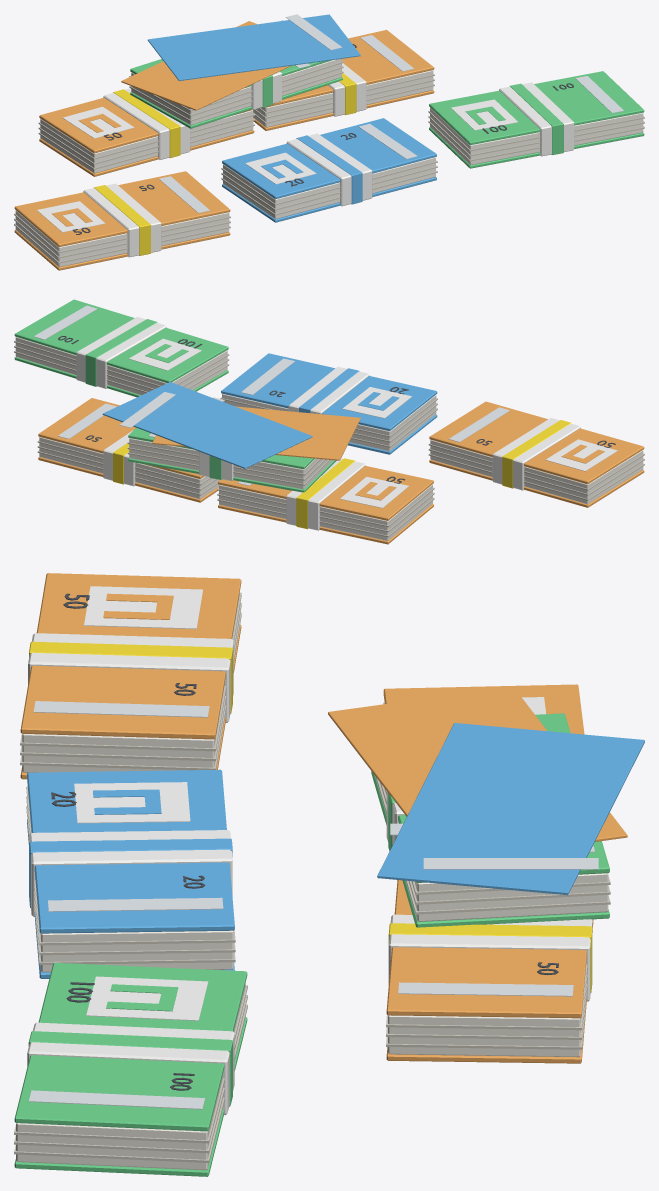
The model's file is Soldi_50_20_100.fbx.
3 views of the same model, one above another, from view 1: azimuth 30°, elevation 25°; view 2: azimuth 150°, elevation 25°; view 3: azimuth 270°, elevation 25° (orthographic). The views are drawn at different scales.
Parts seen in each view (by area): view 1: Banconota_Singola_2, Mazzetta_20_Euro_Cima, Mazzetta_50_Euro_Cima, Mazzetta_100_Euro_Cima, Banconota_Singola_1, Mazzetta_20_Euro_Fogli, Mazzetta_50_Euro_Fogli, Pila_Base_SX_Fogli, Mazzetta_100_Euro_Fogli, Pila_Base_DX_Cima, Pila_Base_DX_Fogli, Pila_Secondo_Fogli (+42 smaller); view 2: Banconota_Singola_2, Mazzetta_50_Euro_Cima, Mazzetta_100_Euro_Cima, Mazzetta_20_Euro_Cima, Banconota_Singola_1, Mazzetta_50_Euro_Fogli, Pila_Base_SX_Fogli, Pila_Base_SX_Cima, Mazzetta_100_Euro_Fogli, Pila_Secondo_Fogli, Pila_Base_DX_Fogli, Pila_Base_DX_Cima (+38 smaller); view 3: Banconota_Singola_2, Mazzetta_50_Euro_Cima, Mazzetta_20_Euro_Cima, Mazzetta_100_Euro_Cima, Pila_Base_DX_Cima, Banconota_Singola_1, Mazzetta_100_Euro_Fogli, Pila_Base_DX_Fogli, Mazzetta_50_Euro_Fogli, Mazzetta_20_Euro_Fogli, Mazzetta_100_Euro_Fascetta, Pila_Secondo_Fogli (+34 smaller).
Boxes of the visible parts, x1=… form: Banconota_Singola_2: x1=147, y1=14, x2=360, y2=80; Mazzetta_20_Euro_Cima: x1=222, y1=118, x2=436, y2=199; Mazzetta_50_Euro_Cima: x1=14, y1=171, x2=230, y2=246; Mazzetta_100_Euro_Cima: x1=429, y1=71, x2=644, y2=145; Banconota_Singola_1: x1=121, y1=21, x2=291, y2=110; Mazzetta_20_Euro_Fogli: x1=223, y1=157, x2=435, y2=219; Mazzetta_50_Euro_Fogli: x1=15, y1=210, x2=229, y2=267; Pila_Base_SX_Fogli: x1=40, y1=110, x2=253, y2=173; Mazzetta_100_Euro_Fogli: x1=430, y1=107, x2=643, y2=165; Pila_Base_DX_Cima: x1=265, y1=30, x2=434, y2=107; Pila_Base_DX_Fogli: x1=253, y1=70, x2=433, y2=127; Pila_Secondo_Fogli: x1=131, y1=59, x2=341, y2=125; Banconota_Singola_2: x1=102, y1=382, x2=312, y2=468; Mazzetta_50_Euro_Cima: x1=429, y1=401, x2=644, y2=484; Mazzetta_100_Euro_Cima: x1=14, y1=299, x2=228, y2=382; Mazzetta_20_Euro_Cima: x1=221, y1=353, x2=437, y2=431; Banconota_Singola_1: x1=152, y1=406, x2=360, y2=460; Mazzetta_50_Euro_Fogli: x1=430, y1=440, x2=643, y2=504; Pila_Base_SX_Fogli: x1=219, y1=484, x2=432, y2=540; Pila_Base_SX_Cima: x1=218, y1=466, x2=433, y2=520; Mazzetta_100_Euro_Fogli: x1=15, y1=337, x2=227, y2=395; Pila_Secondo_Fogli: x1=129, y1=438, x2=332, y2=489; Pila_Base_DX_Fogli: x1=39, y1=437, x2=219, y2=499; Pila_Base_DX_Cima: x1=38, y1=398, x2=204, y2=479; Banconota_Singola_2: x1=377, y1=723, x2=644, y2=895; Mazzetta_50_Euro_Cima: x1=20, y1=573, x2=241, y2=739; Mazzetta_20_Euro_Cima: x1=27, y1=769, x2=234, y2=933; Mazzetta_100_Euro_Cima: x1=14, y1=962, x2=247, y2=1131; Pila_Base_DX_Cima: x1=386, y1=880, x2=586, y2=1018; Banconota_Singola_1: x1=328, y1=686, x2=627, y2=841; Mazzetta_100_Euro_Fogli: x1=16, y1=983, x2=245, y2=1170; Pila_Base_DX_Fogli: x1=388, y1=1015, x2=581, y2=1057; Mazzetta_50_Euro_Fogli: x1=22, y1=594, x2=239, y2=772; Mazzetta_20_Euro_Fogli: x1=40, y1=930, x2=233, y2=972; Mazzetta_100_Euro_Fascetta: x1=27, y1=1022, x2=234, y2=1115; Pila_Secondo_Fogli: x1=375, y1=776, x2=608, y2=921.
Bounding box in the file's own units: 51.05 × 5.01 × 24.56.
